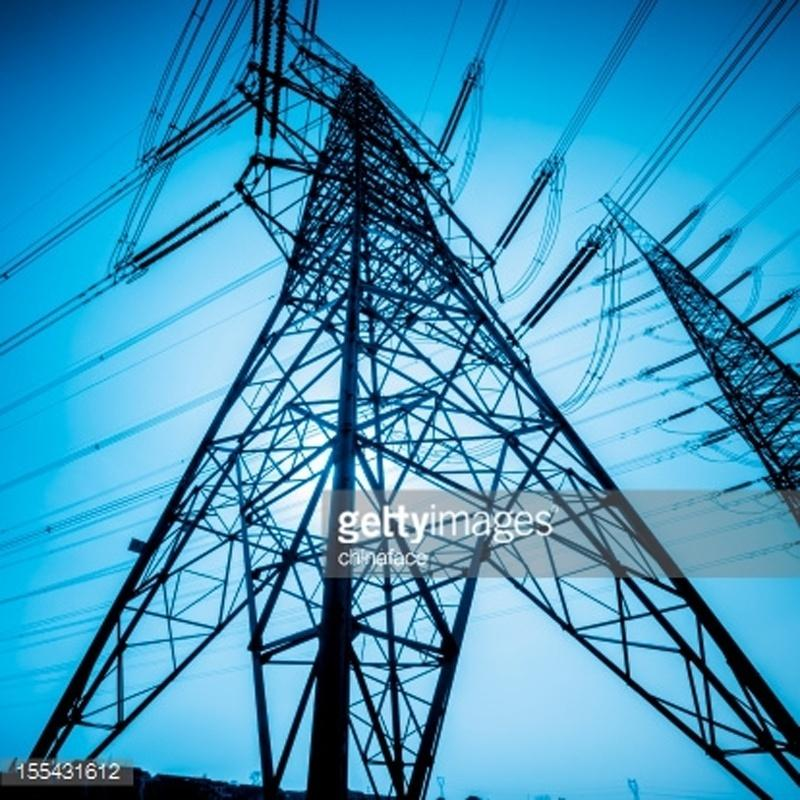power_tower: (26, 20, 787, 780)
